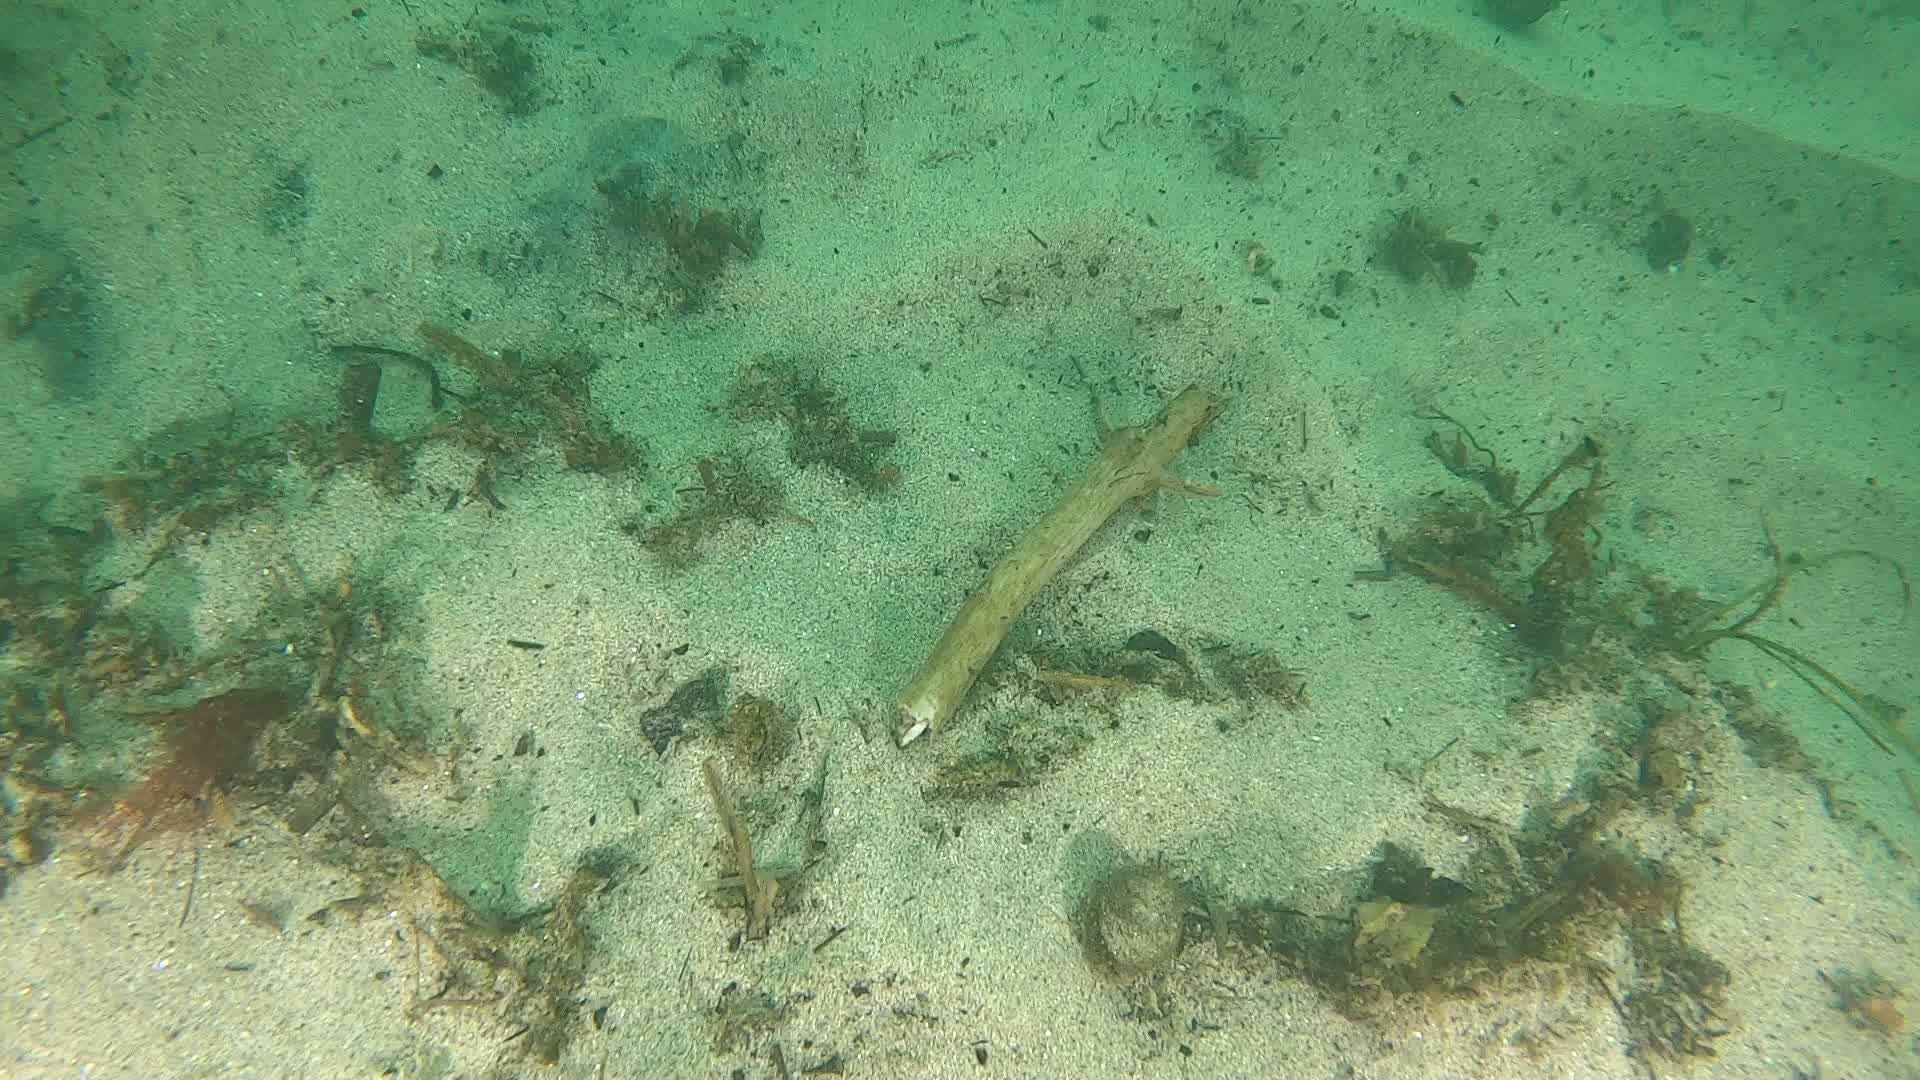wood: (887, 380, 1228, 746)
